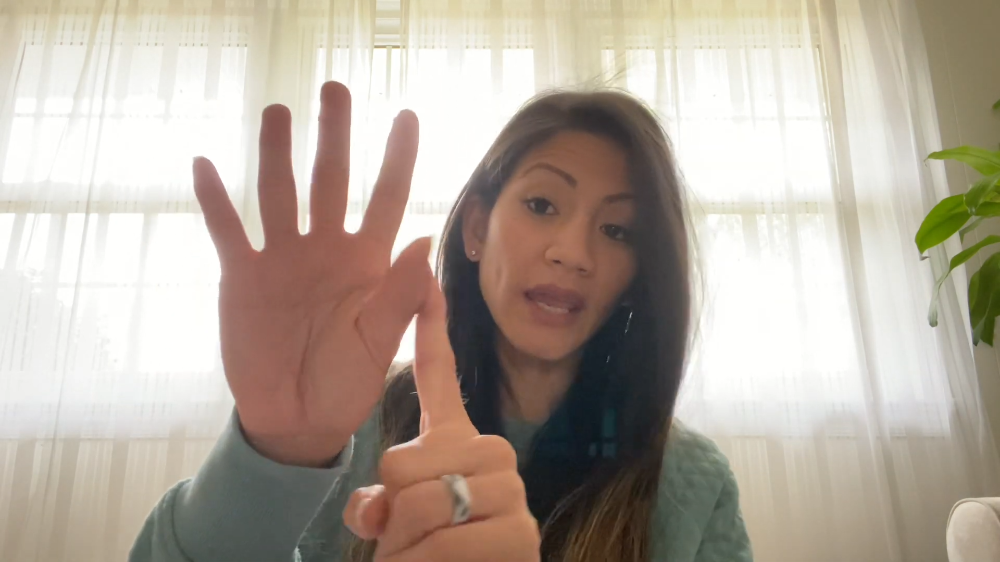hello: (186, 84, 433, 433)
